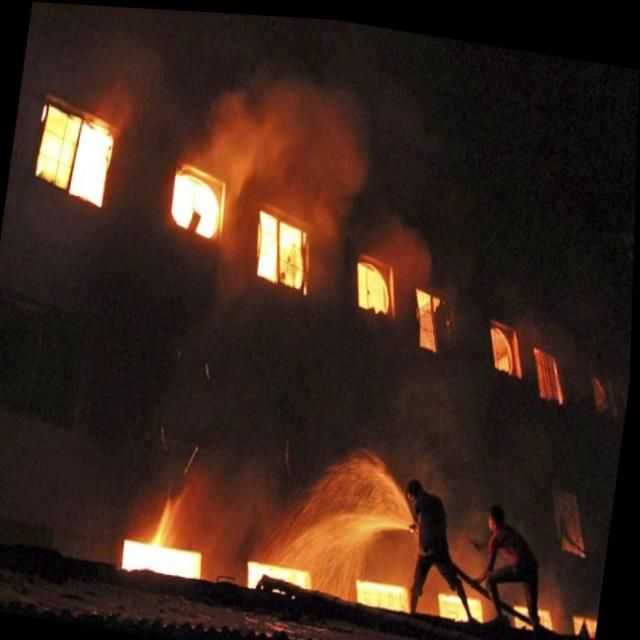fire: (125, 481, 210, 578), (249, 200, 312, 293), (167, 168, 231, 241), (407, 276, 465, 354), (71, 115, 115, 208), (244, 551, 322, 599), (484, 312, 531, 377), (354, 570, 418, 611), (436, 580, 493, 620), (353, 254, 389, 311)
